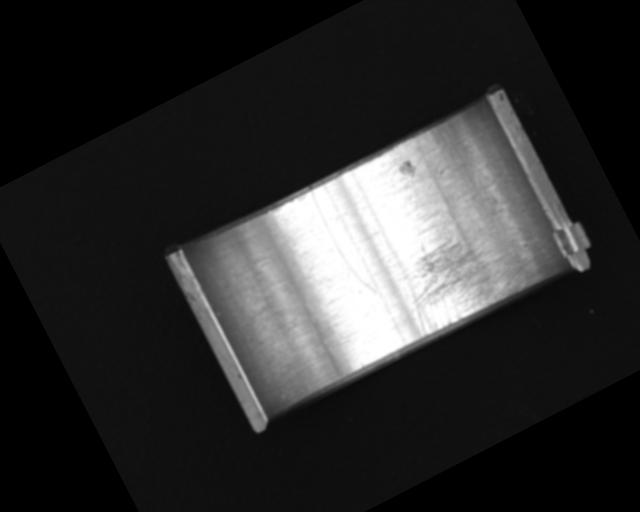bruise: (395, 157, 418, 181)
nick: (306, 182, 378, 301)
scratch: (381, 210, 523, 341)
